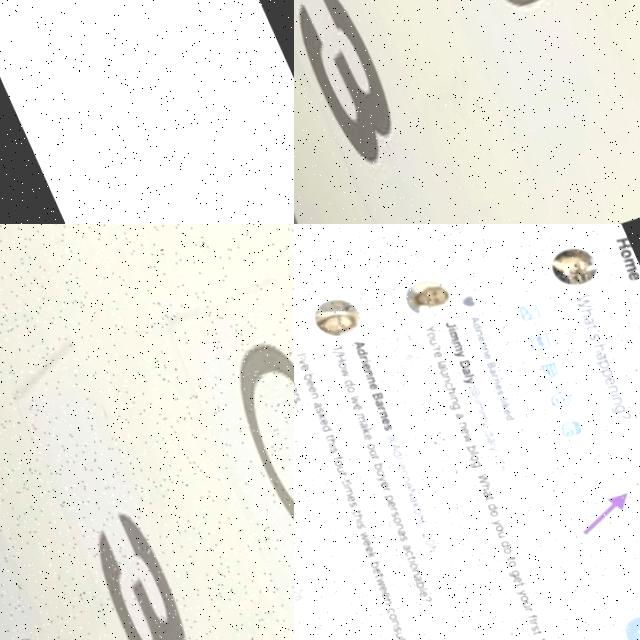0: (189, 286, 294, 570), (526, 627, 543, 640), (417, 527, 431, 539)
1: (327, 334, 341, 344), (488, 447, 502, 456), (528, 623, 540, 632), (467, 539, 479, 547), (434, 440, 445, 448)
2: (414, 520, 429, 532)
3: (43, 458, 223, 640), (294, 0, 421, 191)
6: (400, 342, 412, 353), (294, 585, 298, 595)
F: (0, 0, 294, 116)
